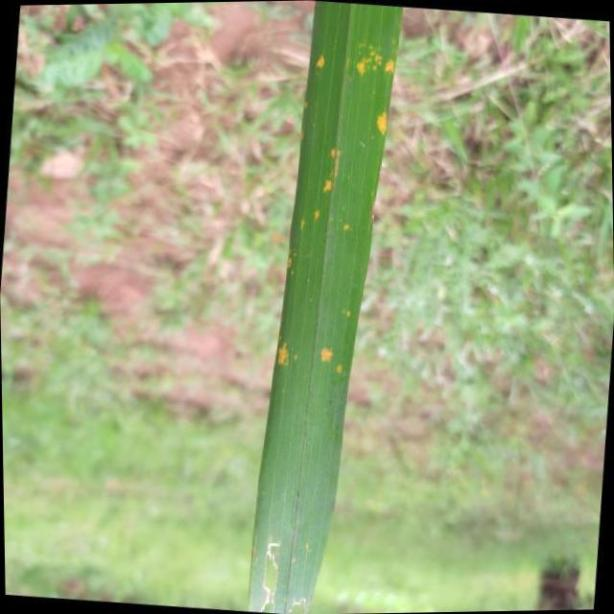Kalium: (248, 0, 398, 614)
